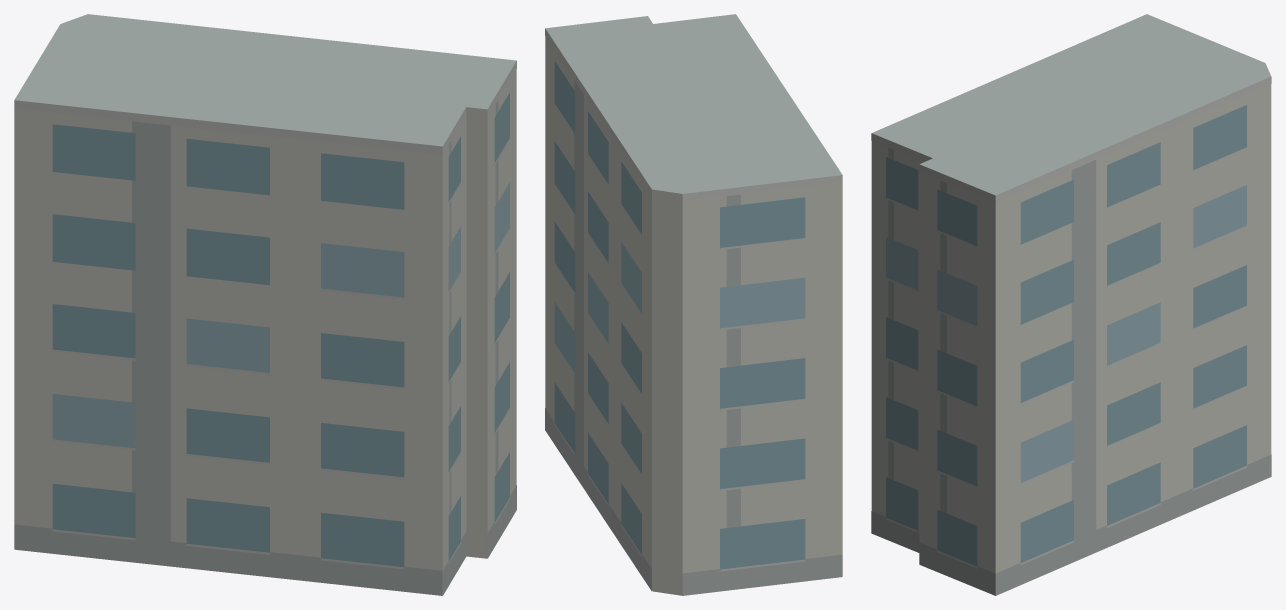
File: survey-upis-32564813.glb
The picture shows the model from 3 angles, left to right: view 1: azimuth 30°, elevation 25°; view 2: azimuth 150°, elevation 25°; view 3: azimuth 270°, elevation 25°; orthographic projection. The views are drawn at different scales.
Parts seen in each view (by area): view 1: survey-upis-32564813.tmp; view 2: survey-upis-32564813.tmp; view 3: survey-upis-32564813.tmp.
Boxes of the visible parts, x1,y1,x2,y2 form: survey-upis-32564813.tmp: [14, 14, 516, 595]; survey-upis-32564813.tmp: [545, 14, 842, 595]; survey-upis-32564813.tmp: [871, 14, 1271, 595].
Bounding box in the file's own units: 12.75 × 13.1 × 11.86.
